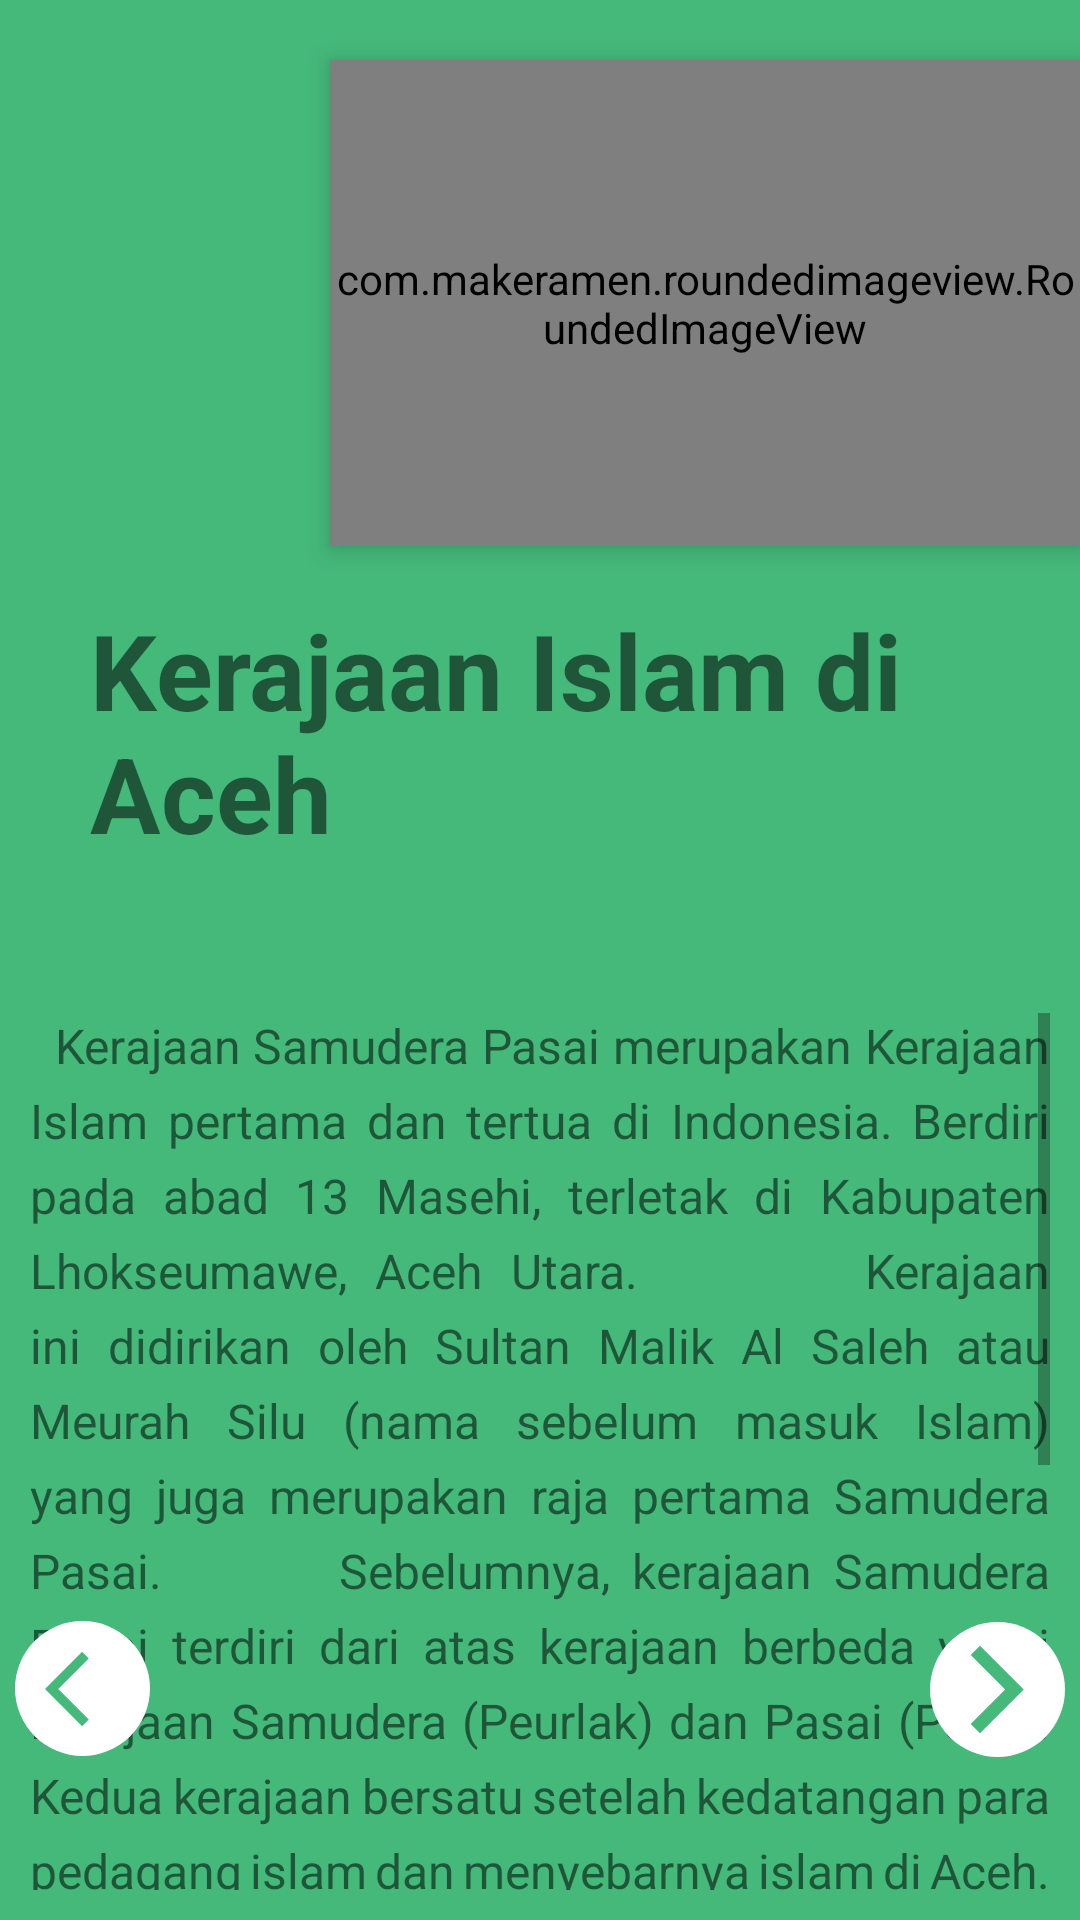

Icons on this 1080 × 1920 Android screen, each with its box as (x1, y1, x2, y2):
arrow back: (15, 1621, 150, 1756)
arrow forwad: (930, 1622, 1065, 1757)
